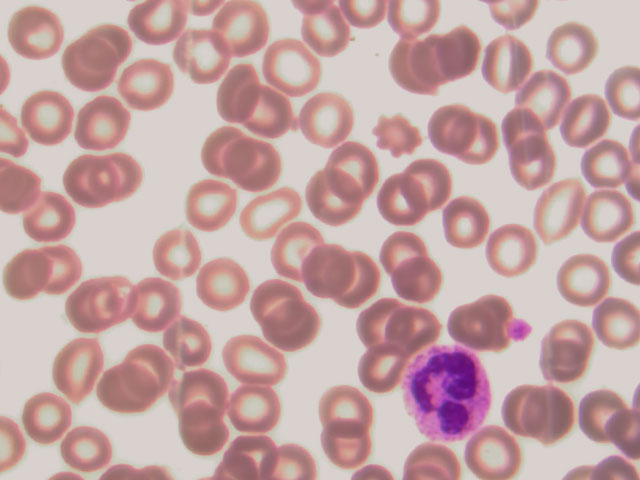Platelets: (506, 318, 533, 344)
RBC: (182, 177, 239, 231), (241, 185, 298, 239), (265, 221, 322, 275), (296, 241, 353, 295), (330, 254, 387, 308), (375, 218, 432, 272), (385, 250, 442, 304), (483, 222, 540, 276), (437, 192, 494, 245), (554, 252, 611, 305), (583, 297, 640, 350), (536, 320, 593, 373), (530, 387, 587, 440), (493, 383, 550, 436), (467, 427, 524, 480), (315, 421, 372, 474), (318, 380, 375, 433), (355, 342, 412, 395), (395, 301, 452, 354), (350, 296, 407, 349), (268, 303, 325, 356), (249, 273, 306, 326), (195, 259, 252, 312), (152, 231, 209, 284), (133, 276, 190, 329), (72, 276, 129, 329), (47, 338, 104, 391), (26, 385, 83, 438), (63, 420, 120, 473), (172, 406, 229, 459), (177, 364, 234, 417), (130, 341, 187, 394), (99, 363, 156, 416), (158, 309, 215, 362), (219, 385, 276, 438), (223, 330, 280, 383), (37, 244, 94, 297), (20, 192, 77, 245), (61, 159, 118, 212), (102, 148, 159, 201), (73, 98, 130, 151), (21, 91, 78, 144), (118, 56, 175, 109), (211, 75, 268, 128), (242, 84, 299, 137), (237, 143, 294, 196), (198, 122, 255, 175), (298, 96, 355, 149), (334, 138, 391, 191), (305, 172, 362, 225), (369, 111, 426, 164), (368, 176, 425, 229), (398, 152, 455, 205), (422, 105, 479, 158), (454, 115, 511, 168), (497, 103, 554, 156), (504, 140, 561, 193), (512, 71, 569, 124), (556, 95, 613, 148), (577, 139, 634, 192), (582, 190, 639, 243), (525, 182, 582, 235), (385, 36, 442, 89), (432, 25, 489, 78), (297, 5, 354, 58), (265, 41, 322, 94), (209, 1, 266, 54), (174, 29, 231, 82), (123, 1, 180, 54), (62, 35, 119, 88), (6, 3, 63, 56), (547, 19, 604, 72), (471, 39, 528, 92), (576, 386, 633, 439), (1, 252, 57, 305)
WBC: (401, 350, 497, 440)
